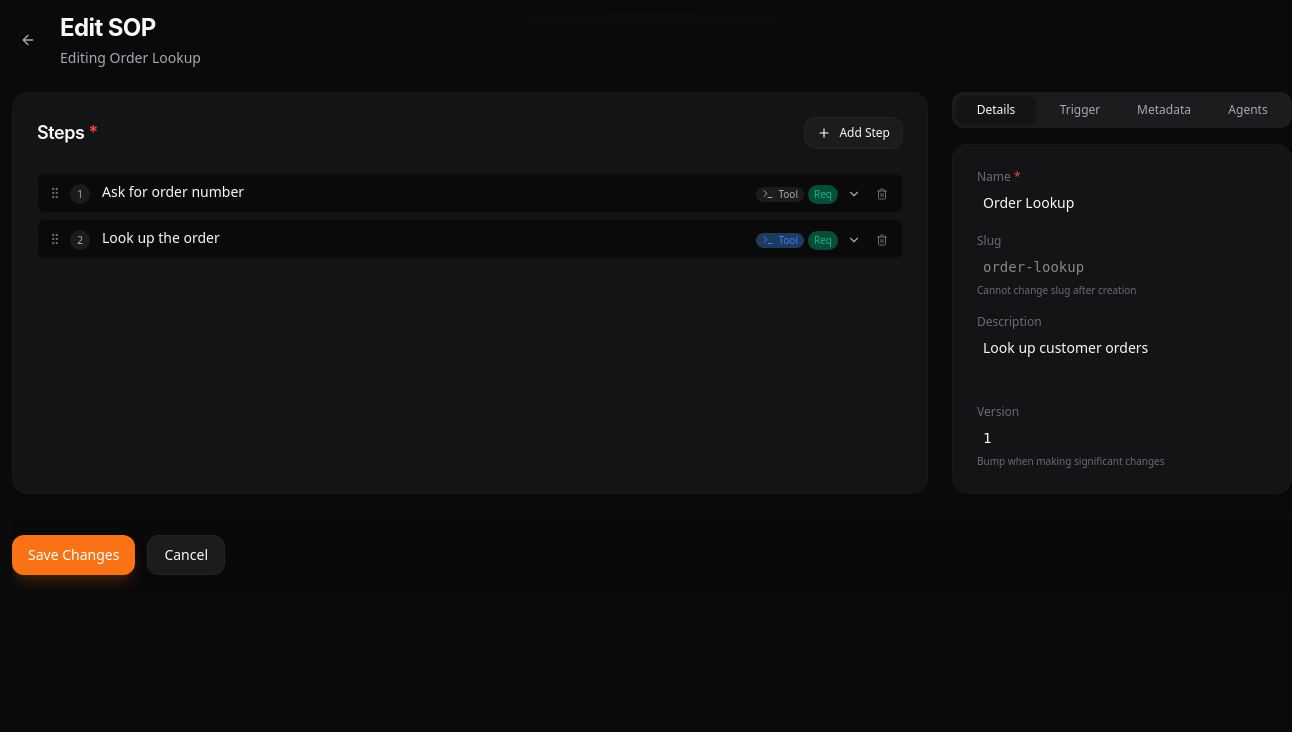
Test: EditSopPage › shows metadata when Meta tab is clicked
This screenshot has width=1292, height=732.
Expected: the heading "Edit SOP" is shown, [60, 13, 156, 42]
Click the button "Metadata": (1164, 110) [1124, 96, 1204, 124]
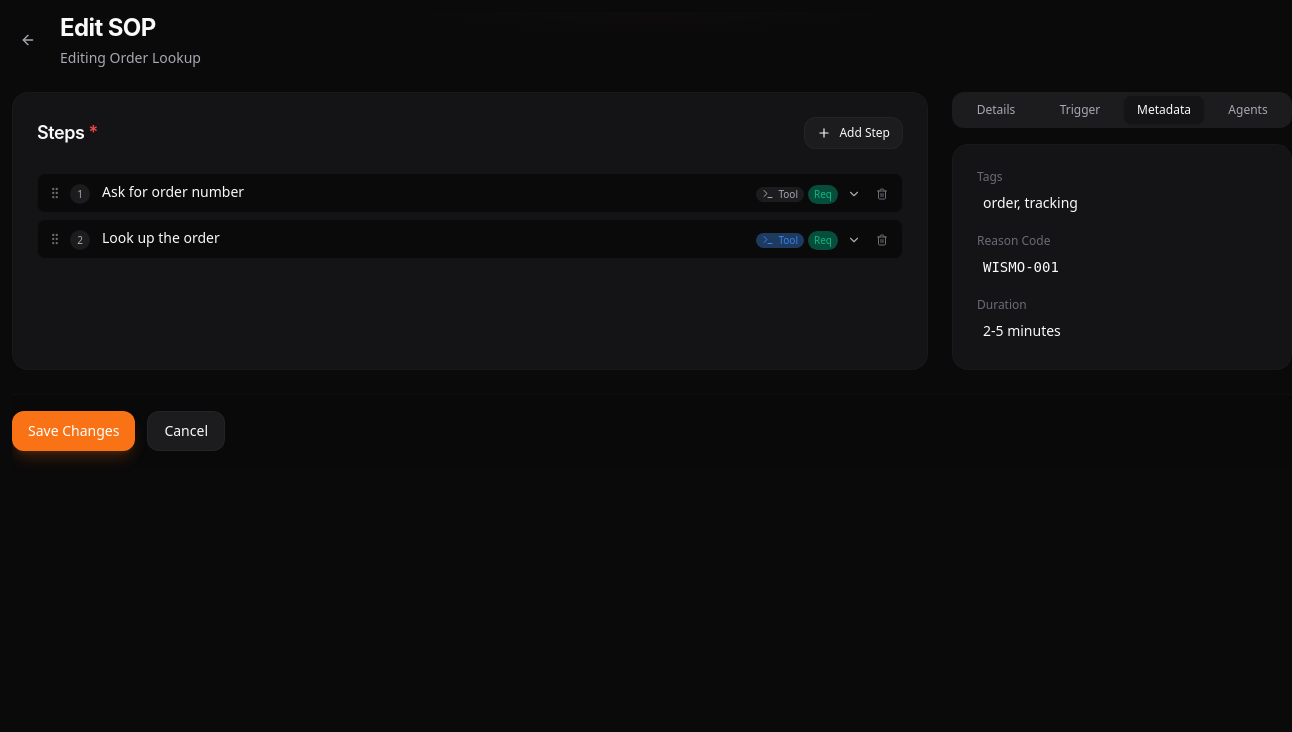
Expected: the field showing "order, tracking" below "Tags" is shown, [977, 189, 1267, 217]
Expected: the field showing "WISMO-001" below "Reason Code" is shown, [977, 253, 1267, 281]
Expected: the field showing "2-5 minutes" below "Duration" is shown, [977, 317, 1267, 345]
